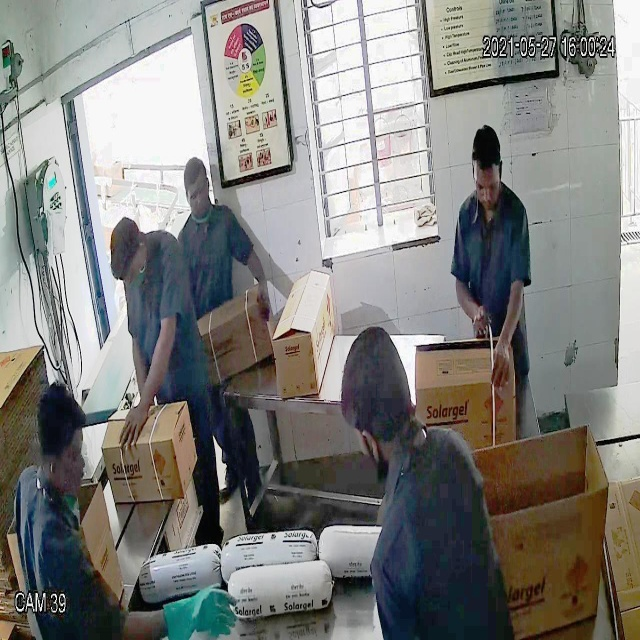Sin_gafas: (469, 172, 506, 200)
